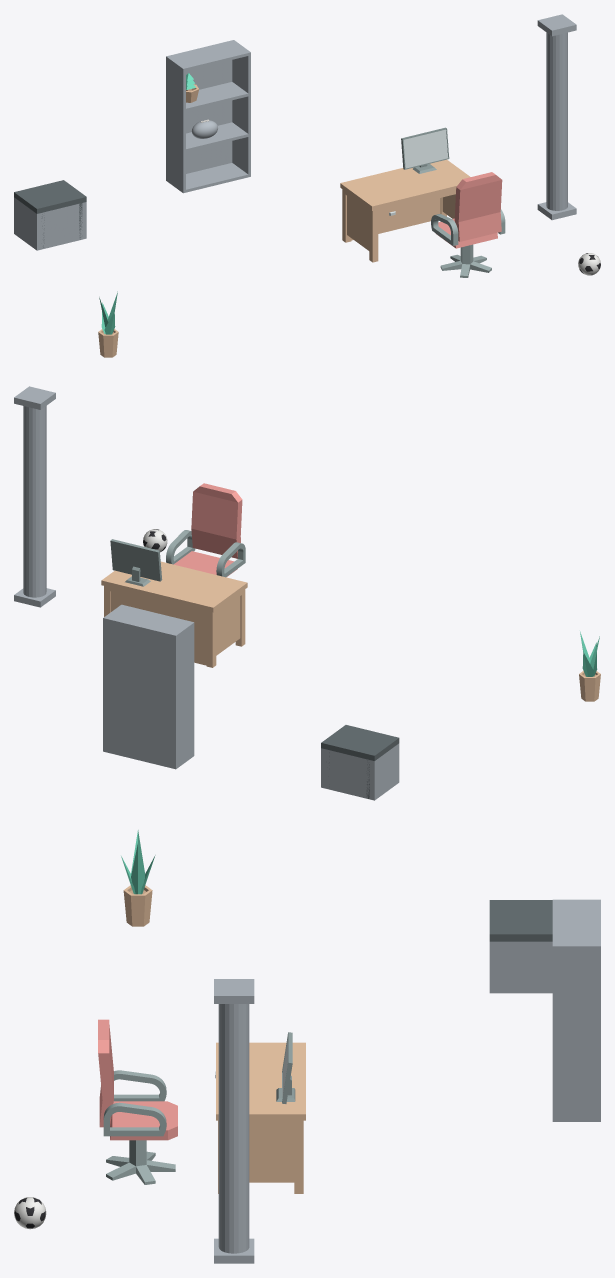
The picture shows the model from 3 angles, top to bottom: view 1: azimuth 30°, elevation 25°; view 2: azimuth 150°, elevation 25°; view 3: azimuth 270°, elevation 25°; orthographic projection. The views are drawn at different scales.
Parts seen in each view (by area): view 1: desk_blue__desk(Clone), column_cyan__column_cyan shaft, deskchair_black__chair, shelf_orange__shelf_orange back, crate_red__crate_red shell, shelf_orange__shelf_orange side_l, shelf_orange__shelf_orange side_r, monitor_gray__computerScreen(Clone), crate_red__crate_red lid, shelf_orange__shelf_orange board3, shelf_orange__shelf_orange board0, shelf_orange__shelf_orange board2 (+4 smaller); view 2: shelf_orange__shelf_orange back, desk_blue__desk(Clone), deskchair_black__chair, column_cyan__column_cyan shaft, crate_red__crate_red shell, shelf_orange__shelf_orange side_l, crate_red__crate_red lid, monitor_gray__computerScreen(Clone), shelf_orange__shelf_orange board3, column_cyan__column_cyan capital, plant_pink__pottedPlant(Clone); view 3: shelf_orange__shelf_orange side_r, column_cyan__column_cyan shaft, desk_blue__desk(Clone), deskchair_black__chair, crate_red__crate_red shell, crate_red__crate_red lid, shelf_orange__shelf_orange board3, deskchair_black__chairDesk(Clone), column_cyan__column_cyan capital, plant_pink__pottedPlant(Clone), soccer_white__soccer_white, plant_pink__plant (+2 smaller).
Part boxes in pixels (x1=…): desk_blue__desk(Clone): x1=340, y1=159, x2=470, y2=262; column_cyan__column_cyan shaft: x1=546, y1=32, x2=567, y2=210; deskchair_black__chair: x1=431, y1=172, x2=505, y2=248; shelf_orange__shelf_orange back: x1=169, y1=40, x2=232, y2=173; crate_red__crate_red shell: x1=14, y1=197, x2=86, y2=250; shelf_orange__shelf_orange side_l: x1=166, y1=55, x2=185, y2=193; shelf_orange__shelf_orange side_r: x1=231, y1=40, x2=250, y2=177; monitor_gray__computerScreen(Clone): x1=401, y1=127, x2=449, y2=173; crate_red__crate_red lid: x1=14, y1=180, x2=86, y2=213; shelf_orange__shelf_orange board3: x1=170, y1=41, x2=248, y2=70; shelf_orange__shelf_orange board0: x1=186, y1=163, x2=248, y2=192; shelf_orange__shelf_orange board2: x1=186, y1=82, x2=248, y2=111; shelf_orange__shelf_orange back: x1=106, y1=618, x2=173, y2=768; desk_blue__desk(Clone): x1=101, y1=561, x2=247, y2=667; deskchair_black__chair: x1=166, y1=483, x2=245, y2=577; column_cyan__column_cyan shaft: x1=23, y1=406, x2=46, y2=597; crate_red__crate_red shell: x1=321, y1=743, x2=399, y2=800; shelf_orange__shelf_orange side_l: x1=173, y1=621, x2=194, y2=769; crate_red__crate_red lid: x1=321, y1=725, x2=399, y2=760; monitor_gray__computerScreen(Clone): x1=110, y1=539, x2=162, y2=586; shelf_orange__shelf_orange board3: x1=107, y1=605, x2=190, y2=633; column_cyan__column_cyan capital: x1=14, y1=386, x2=55, y2=409; plant_pink__pottedPlant(Clone): x1=579, y1=671, x2=600, y2=701; shelf_orange__shelf_orange side_r: x1=552, y1=944, x2=600, y2=1121; column_cyan__column_cyan shaft: x1=218, y1=1004, x2=249, y2=1253; desk_blue__desk(Clone): x1=216, y1=1042, x2=305, y2=1193; deskchair_black__chair: x1=98, y1=1019, x2=177, y2=1140; crate_red__crate_red shell: x1=489, y1=941, x2=552, y2=993; crate_red__crate_red lid: x1=489, y1=900, x2=552, y2=941; shelf_orange__shelf_orange board3: x1=552, y1=901, x2=597, y2=944; deskchair_black__chairDesk(Clone): x1=106, y1=1140, x2=175, y2=1184; column_cyan__column_cyan capital: x1=214, y1=979, x2=254, y2=1003; plant_pink__pottedPlant(Clone): x1=123, y1=885, x2=152, y2=926; soccer_white__soccer_white: x1=14, y1=1197, x2=46, y2=1229; plant_pink__plant: x1=121, y1=830, x2=155, y2=894.
Size of the model in its own units: 5.57 by 2 by 3.97.
